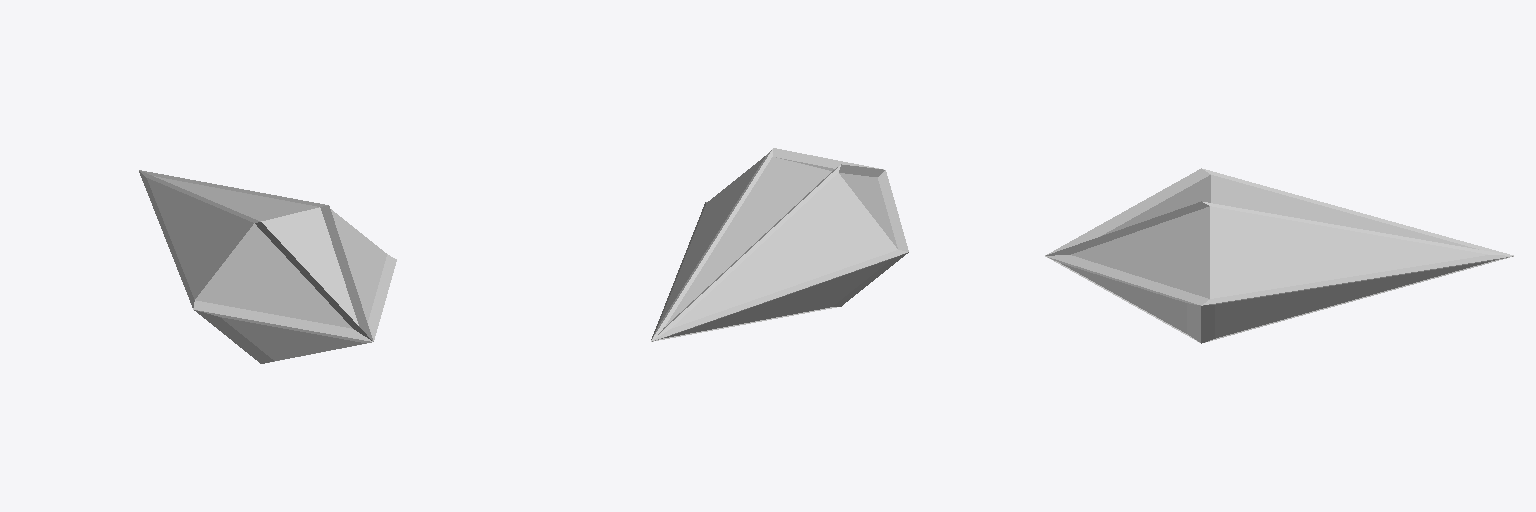
File: Challenge 3 Crystal Variant.obj
3 views of the same model, side by side, from view 1: azimuth 30°, elevation 25°; view 2: azimuth 150°, elevation 25°; view 3: azimuth 270°, elevation 25° (orthographic).
Parts seen in each view (by area): view 1: polySurface3; view 2: polySurface3; view 3: polySurface3.
Boxes of the visible parts, <box> form: polySurface3: <box>139,170,396,363</box>; polySurface3: <box>651,148,908,341</box>; polySurface3: <box>1045,168,1513,343</box>.
Bounding box in the file's own units: 15.24 × 10.16 × 30.48.